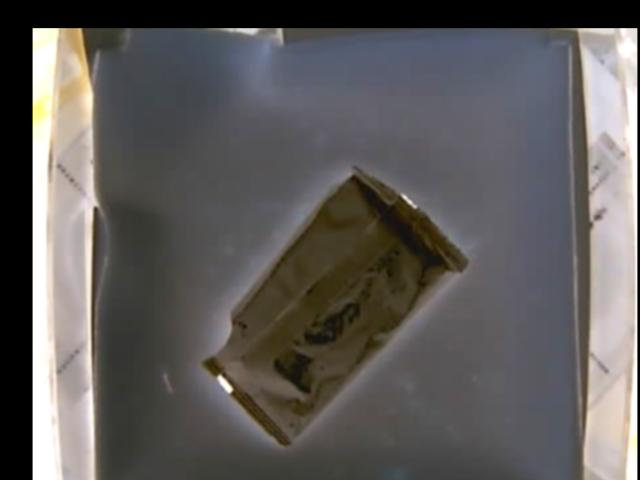Medicine: (200, 164, 463, 446)
